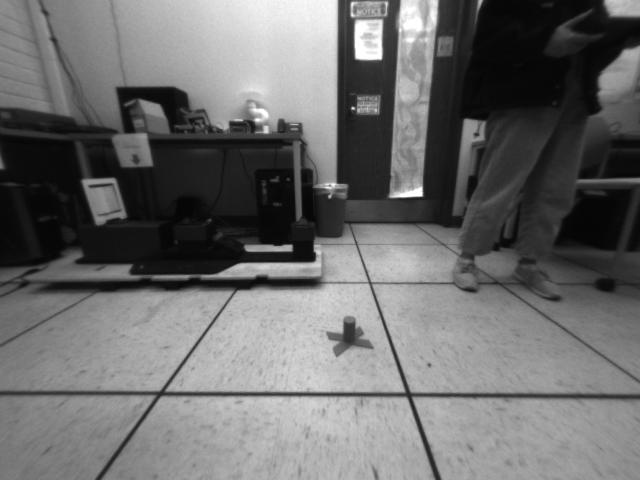x: (324, 315, 373, 356)
